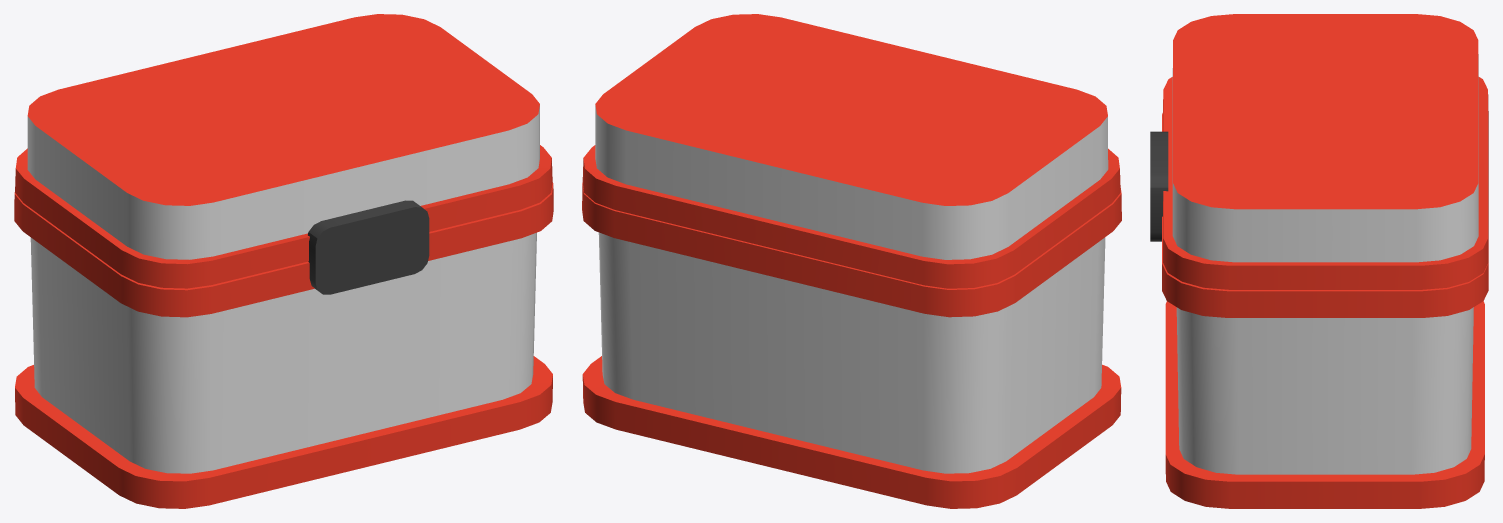
The model's file is Lootbox B.fbx.
The picture shows the model from 3 angles, left to right: view 1: azimuth 30°, elevation 25°; view 2: azimuth 150°, elevation 25°; view 3: azimuth 270°, elevation 25°; orthographic projection.
Visible parts, largest first — view 1: Lootbox Bottom B, Lootbox Up B; view 2: Lootbox Bottom B, Lootbox Up B; view 3: Lootbox Up B, Lootbox Bottom B.
Boxes of the visible parts, x1,y1,x2,y2 form: Lootbox Bottom B: (14, 182, 553, 508); Lootbox Up B: (15, 14, 552, 288); Lootbox Bottom B: (582, 183, 1121, 508); Lootbox Up B: (582, 14, 1120, 288); Lootbox Up B: (1163, 14, 1488, 289); Lootbox Bottom B: (1150, 113, 1488, 508).
Bounding box in the file's own units: 211 × 141 × 147.
